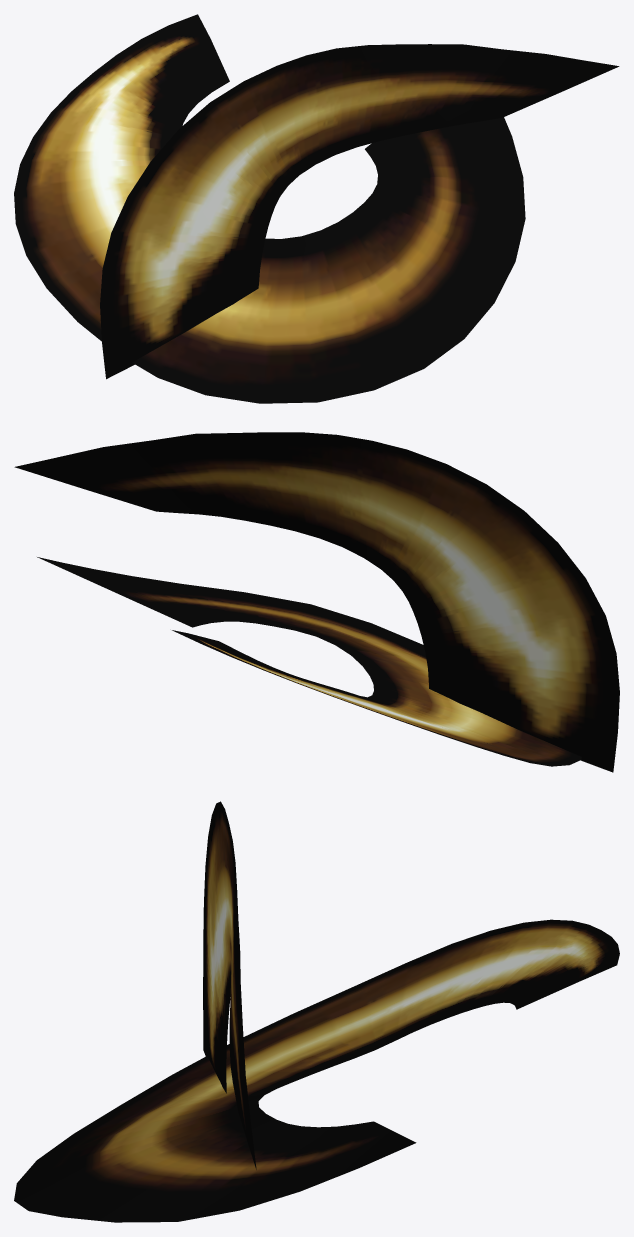
Rendered from effect_sunjian_1.FBX.
3 views of the same model, one above another, from view 1: azimuth 30°, elevation 25°; view 2: azimuth 150°, elevation 25°; view 3: azimuth 270°, elevation 25° (orthographic). The views are drawn at different scales.
Visible parts, largest first — view 1: effect_sunjian_1, effect_sunjian_2; view 2: effect_sunjian_2, effect_sunjian_1; view 3: effect_sunjian_1, effect_sunjian_2.
Boxes of the visible parts, <box> form: effect_sunjian_1: <box>14,14,525,403</box>; effect_sunjian_2: <box>100,44,619,379</box>; effect_sunjian_2: <box>14,432,619,772</box>; effect_sunjian_1: <box>37,557,581,766</box>; effect_sunjian_1: <box>14,919,619,1222</box>; effect_sunjian_2: <box>203,801,256,1169</box>.
Bounding box in the file's own units: 359 × 176 × 268.
Materials: 1 (1 with a texture image).
